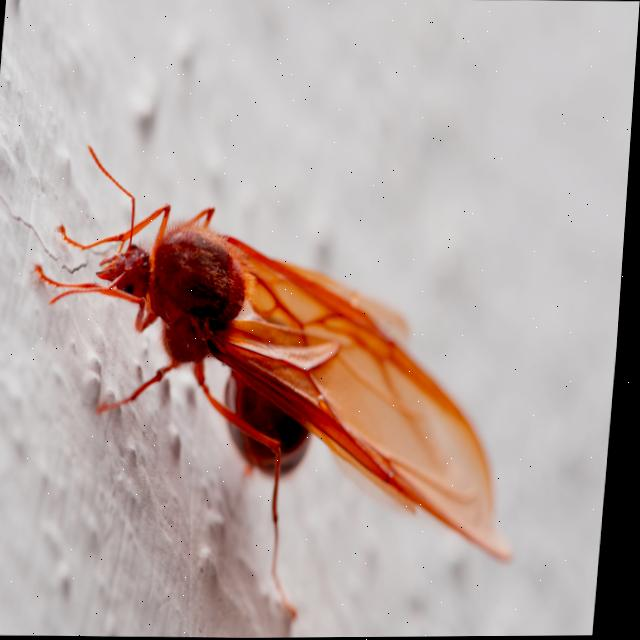Alive-Male-Alate: (9, 140, 549, 628)
